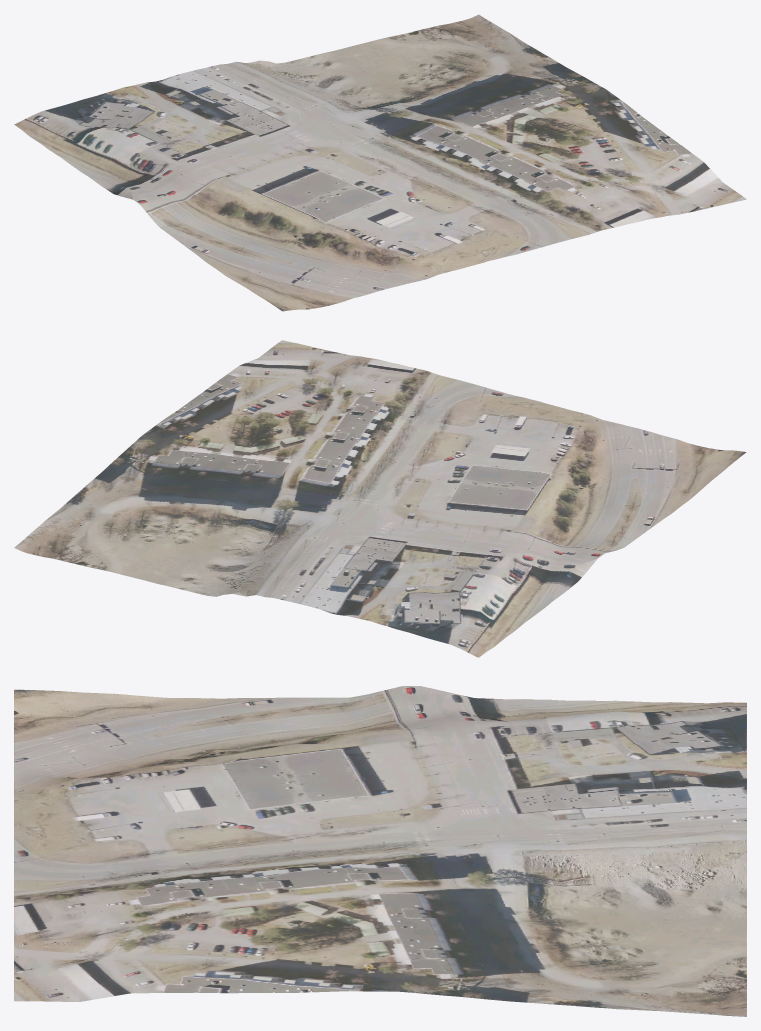
The model's file is CM_Terrain_24491892_6816108.fbx.
The picture shows the model from 3 angles, top to bottom: view 1: azimuth 30°, elevation 25°; view 2: azimuth 150°, elevation 25°; view 3: azimuth 270°, elevation 25°; orthographic projection. The views are drawn at different scales.
Parts seen in each view (by area): view 1: CM_Terrain_24491892_6816108_LOD0; view 2: CM_Terrain_24491892_6816108_LOD0; view 3: CM_Terrain_24491892_6816108_LOD0.
Part boxes in pixels (x1,y1,x2,y2): CM_Terrain_24491892_6816108_LOD0: (14, 14, 746, 311); CM_Terrain_24491892_6816108_LOD0: (14, 340, 746, 657); CM_Terrain_24491892_6816108_LOD0: (14, 686, 746, 1016).
Size of what is drawn, in the model's own units: 205 by 10.27 by 205.
